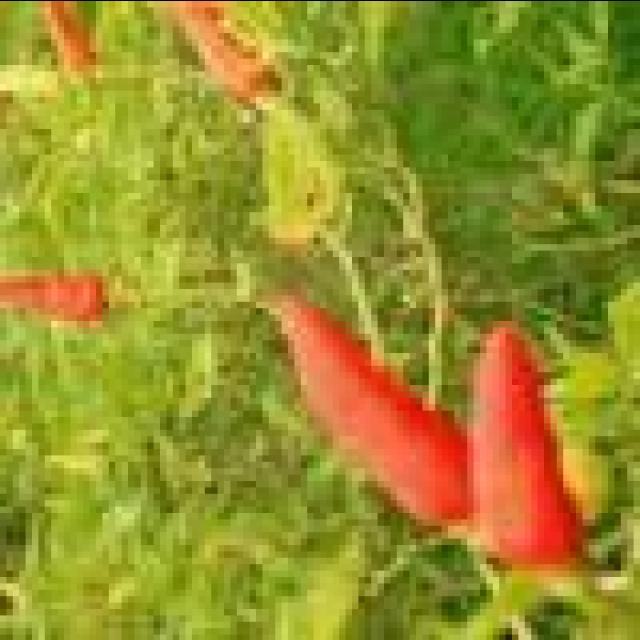virus_kuning: (224, 107, 392, 285)
